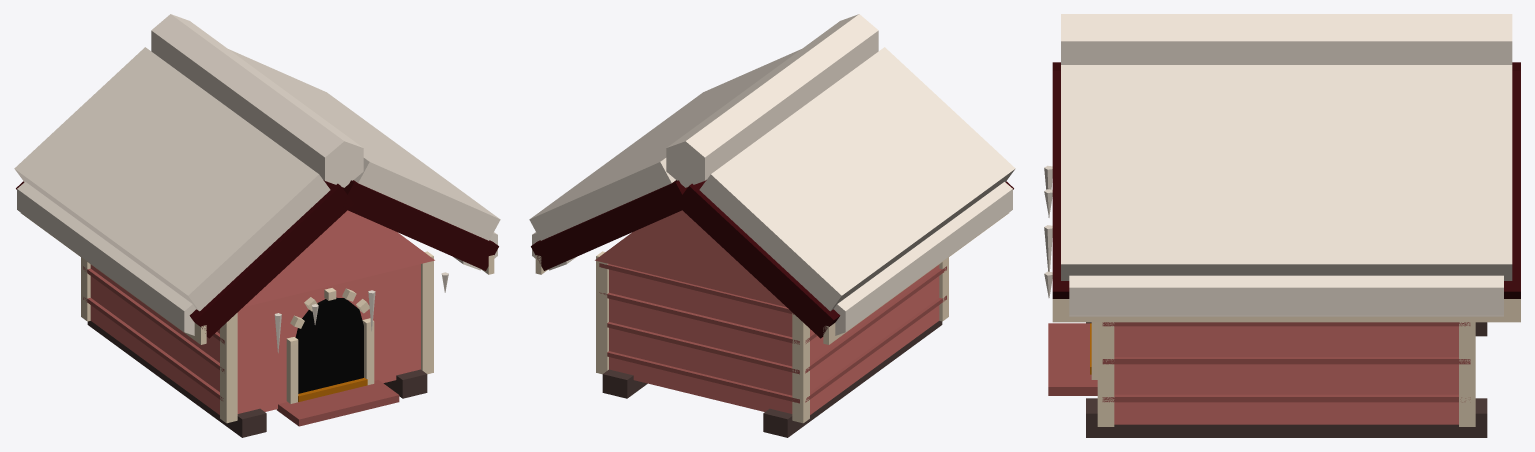
The model's file is rs_doghouse.glb.
The picture shows the model from 3 angles, left to right: view 1: azimuth 30°, elevation 25°; view 2: azimuth 150°, elevation 25°; view 3: azimuth 270°, elevation 25°; orthographic projection. The views are drawn at different scales.
Parts seen in each view (by area): view 1: doghouse; view 2: doghouse; view 3: doghouse.
Boxes of the visible parts, left/top/right/bottom form: doghouse: left=14, top=14, right=500, bottom=437; doghouse: left=529, top=14, right=1015, bottom=437; doghouse: left=1044, top=14, right=1520, bottom=437.
Bounding box in the file's own units: 2.81 × 2.41 × 2.85.
